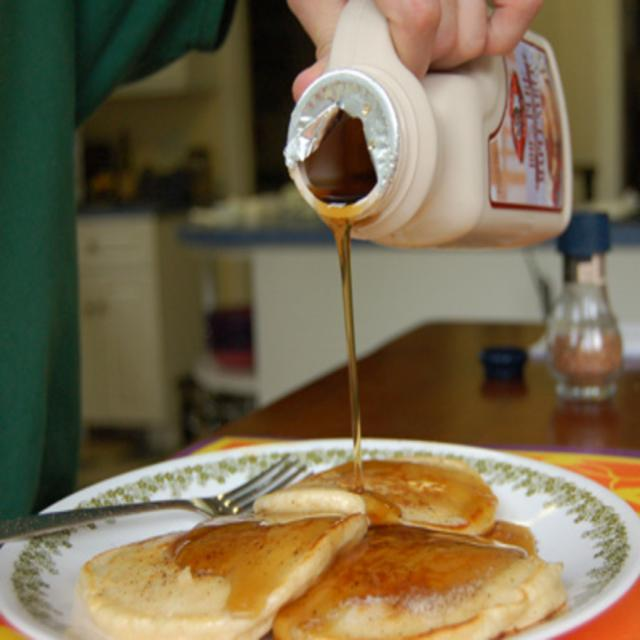Pancake: (92, 452, 570, 640)
